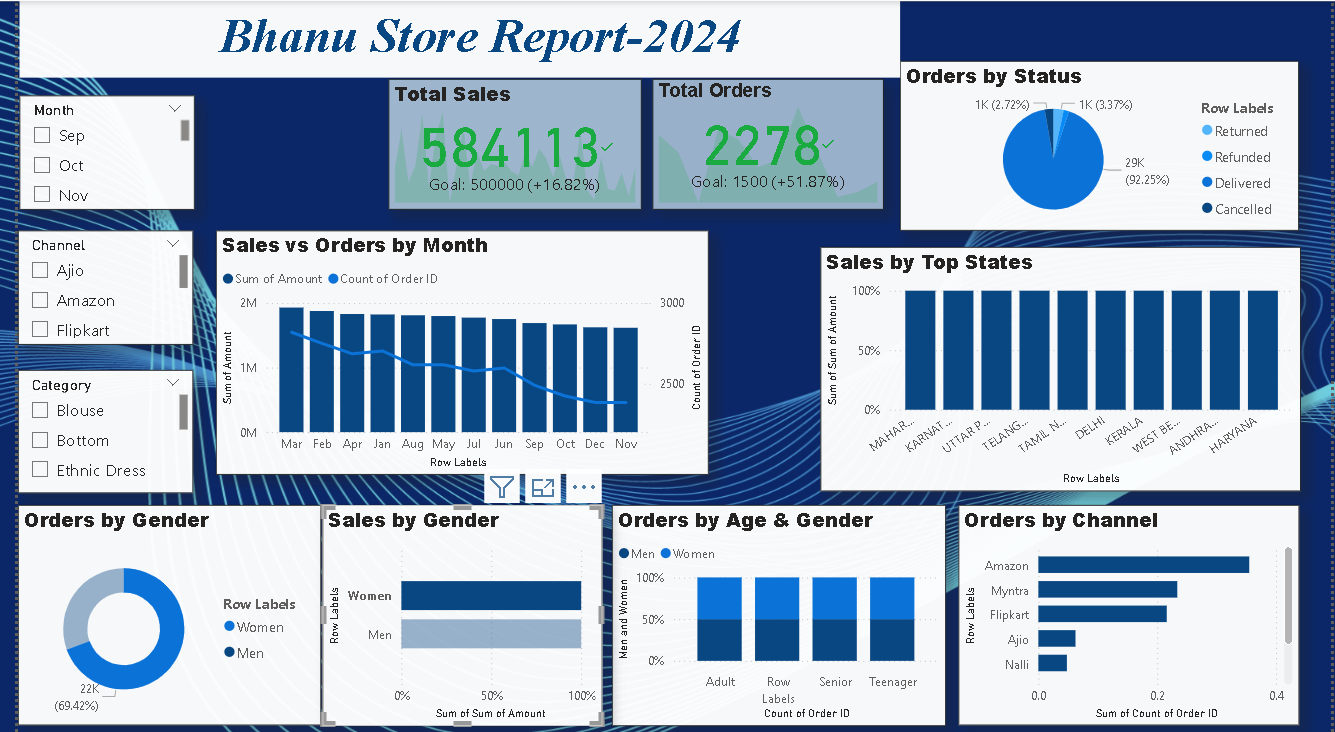

The dashboard page shown, as its layout file describes it:
{"tool":"powerbi","page":{"name":"Sales & Orders Overview","canvas":[1280,720],"ordinal":0},"visuals":[{"type":"kpi","title":"Total Sales","fields":{"Indicator":["Bhanu Store.Amount"],"TrendLine":["Bhanu Store.Date"],"Goal":["Bhanu Store.Sales_Target"]},"box":[360.4,75.7,246.8,127.2],"z":0},{"type":"kpi","title":"Total Orders","fields":{"Indicator":["Bhanu Store.Order ID"],"TrendLine":["Bhanu Store.Month"],"Goal":["Bhanu Store.Order_Target"]},"box":[617.8,75.7,225.6,127.2],"z":1000},{"type":"lineStackedColumnComboChart","title":"Sales vs Orders by Month","fields":{"Category":["Sales vs Orders.Row Labels"],"Y":["Sales vs Orders.Sum of Amount"],"Y2":["Sales vs Orders.Count of Order ID"]},"box":[192.3,224.1,480,237.7],"z":2000},{"type":"pieChart","title":"Orders by Status","fields":{"Category":["Order Status.Row Labels"],"Y":["Order Status.Count of Order ID"]},"box":[859.3,58.5,388.7,165.1],"z":3000},{"type":"hundredPercentStackedColumnChart","title":" Sales by Top States","fields":{"Category":["Sales  Top 10 States.Row Labels"],"Y":["Sales  Top 10 States.Sum of Amount"]},"box":[781.3,239.2,467.9,237.7],"z":4000},{"type":"textbox","box":[1.5,0,857.9,74.5],"z":5000},{"type":"slicer","fields":{"Values":["Bhanu Store.Channel "]},"box":[0,223.6,171,111.1],"z":6000},{"type":"slicer","fields":{"Values":["Bhanu Store.Category"]},"box":[0,359.5,171,119.8],"z":7000},{"type":"slicer","fields":{"Values":["Bhanu Store.Month"]},"box":[1.5,92.1,171,111.1],"z":8000},{"type":"donutChart","title":"Orders by Gender","fields":{"Category":["Men vs Women.Row Labels"],"Y":["Men vs Women.Count of Order ID"]},"box":[0,491.1,295.2,214.8],"z":9000},{"type":"hundredPercentStackedBarChart","title":"Sales by Gender","fields":{"Category":["Men vs Women.Row Labels"],"Y":["Men vs Women.Sum of Amount"]},"box":[296.8,490.6,272.6,215],"z":10000},{"type":"hundredPercentStackedColumnChart","title":"Orders by Age & Gender","fields":{"Y":["Orders  Age vs Gender.Column Labels","Orders  Age vs Gender.Column3"],"Category":["Orders  Age vs Gender.Count of Order ID"]},"box":[578.4,490.6,325.6,215],"z":11000},{"type":"clusteredBarChart","title":"Orders by Channel","fields":{"Category":["Orders  Channels.Row Labels"],"Y":["Orders  Channels.Count of Order ID"]},"box":[916.3,491.1,331.8,214.8],"z":12000}]}

Visuals, with their boxes in screenshot pixels (x1, y1, x2, y2), scaled from the page's 1280x720 canvas onto the 1335x732 screenshot:
"Total Sales" kpi: 376/77/633/206
"Total Orders" kpi: 644/77/880/206
"Sales vs Orders by Month" lineStackedColumnComboChart: 201/228/701/469
"Orders by Status" pieChart: 896/59/1302/227
" Sales by Top States" hundredPercentStackedColumnChart: 815/243/1303/485
textbox: 2/0/896/76
slicer - Bhanu Store.Channel : 0/227/178/340
slicer - Bhanu Store.Category: 0/365/178/487
slicer - Bhanu Store.Month: 2/94/180/207
"Orders by Gender" donutChart: 0/499/308/718
"Sales by Gender" hundredPercentStackedBarChart: 310/499/594/717
"Orders by Age & Gender" hundredPercentStackedColumnChart: 603/499/943/717
"Orders by Channel" clusteredBarChart: 956/499/1302/718
